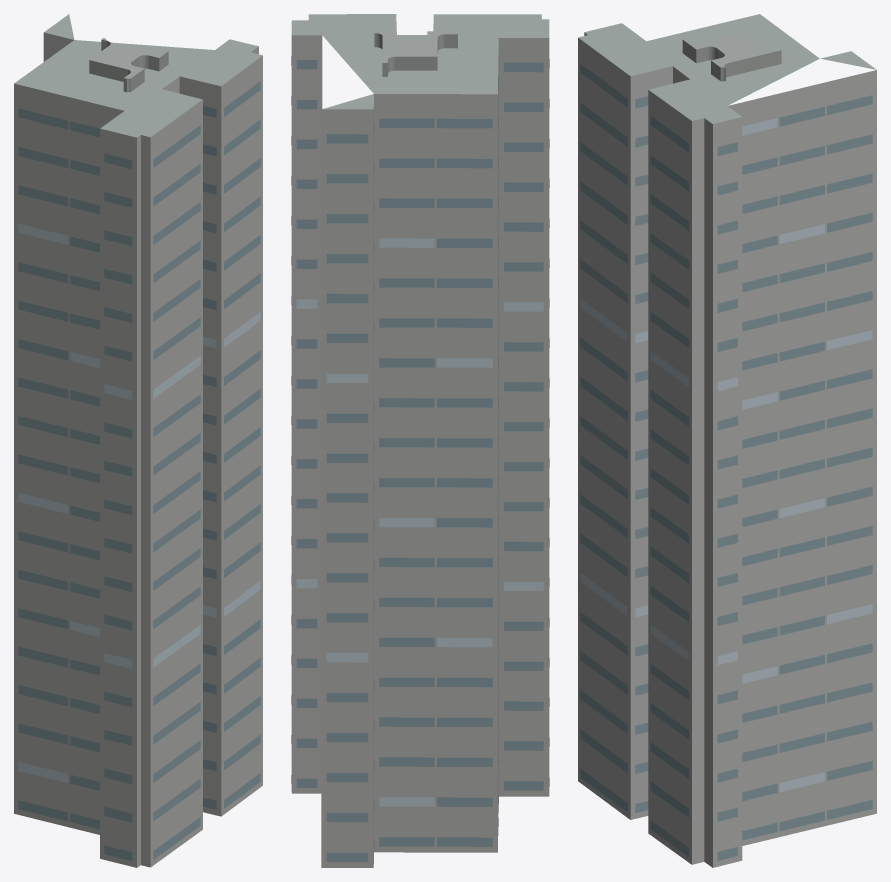
The model's file is fallback-acro-riverpark-109.glb.
3 views of the same model, side by side, from view 1: azimuth 30°, elevation 25°; view 2: azimuth 150°, elevation 25°; view 3: azimuth 270°, elevation 25° (orthographic). The views are drawn at different scales.
Parts seen in each view (by area): view 1: fallback-acro-riverpark-109; view 2: fallback-acro-riverpark-109; view 3: fallback-acro-riverpark-109.
Boxes of the visible parts, x1,y1,x2,y2 form: fallback-acro-riverpark-109: (14,14,262,867); fallback-acro-riverpark-109: (291,14,549,867); fallback-acro-riverpark-109: (578,14,876,867).
Size of the model in its own units: 41.19 by 132 by 47.2.
